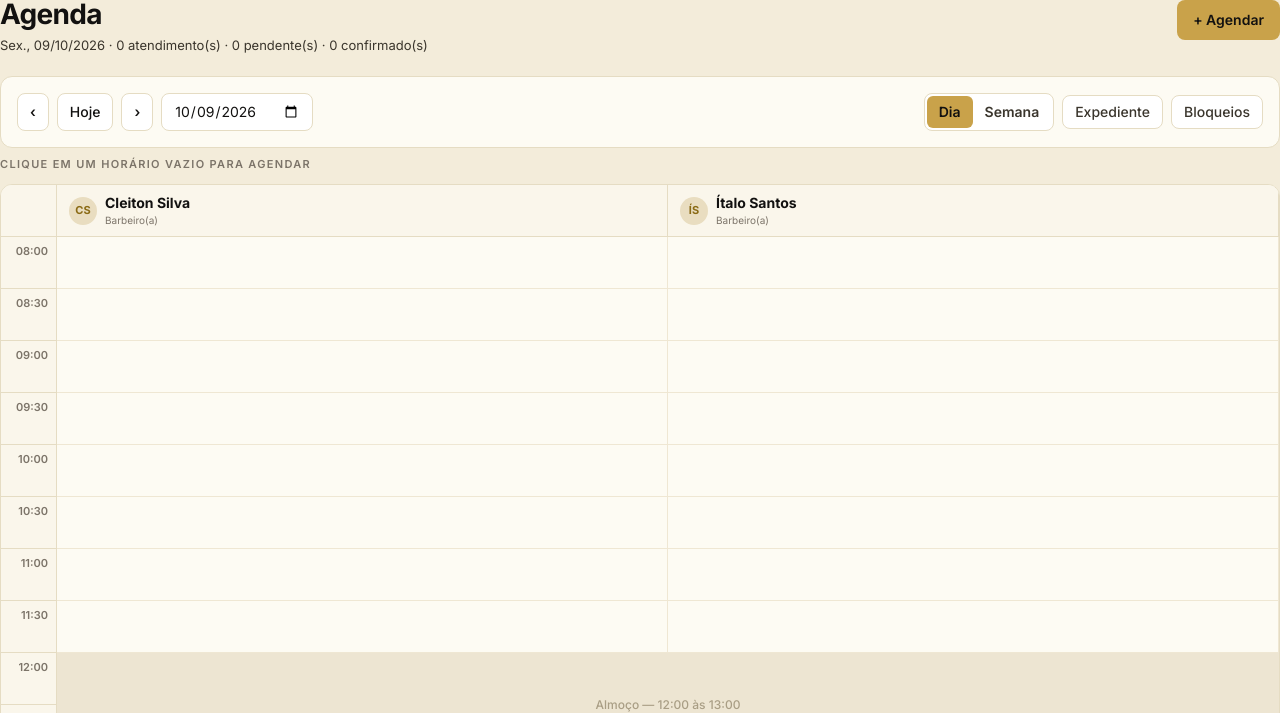
Test: Agenda — modais de expediente e bloqueios › duplo clique em "Criar bloqueio" não cadastra duas vezes
Click the button "Bloqueios".
click(1217, 112)  # box [1171,94,1263,128]
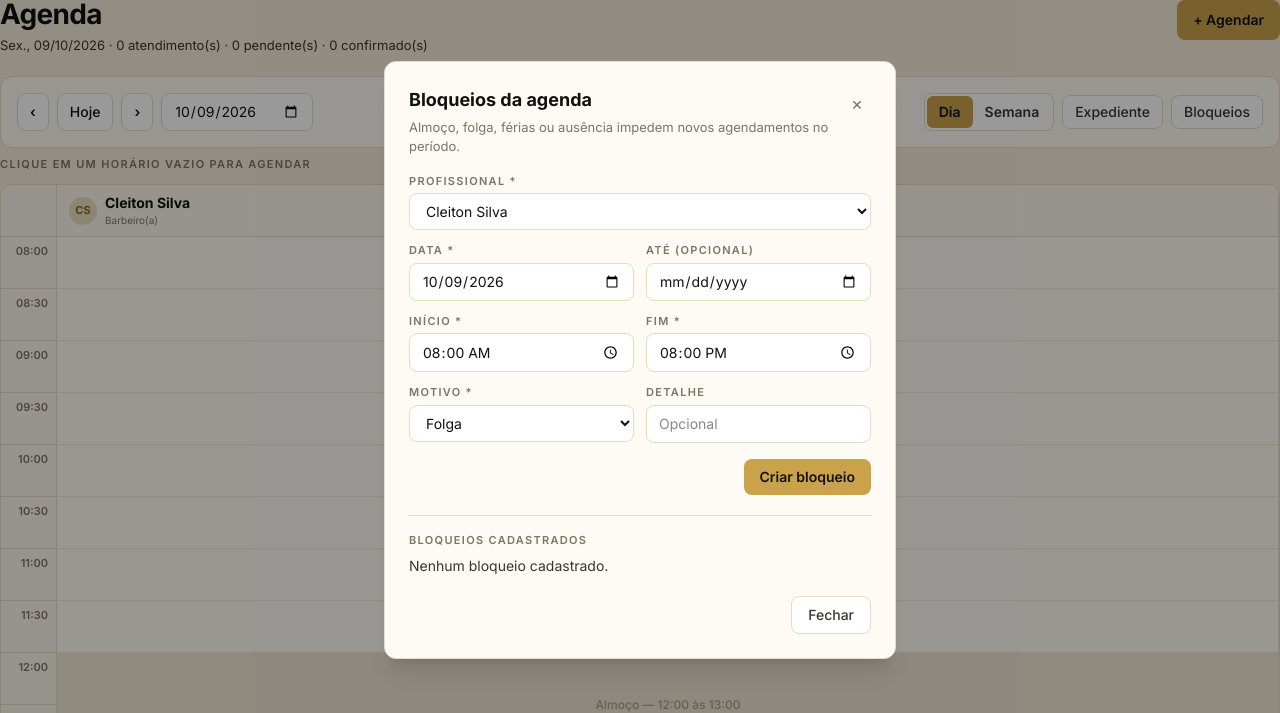
Click the button "Criar bloqueio".
click(807, 477)  # box [744,459,871,495]
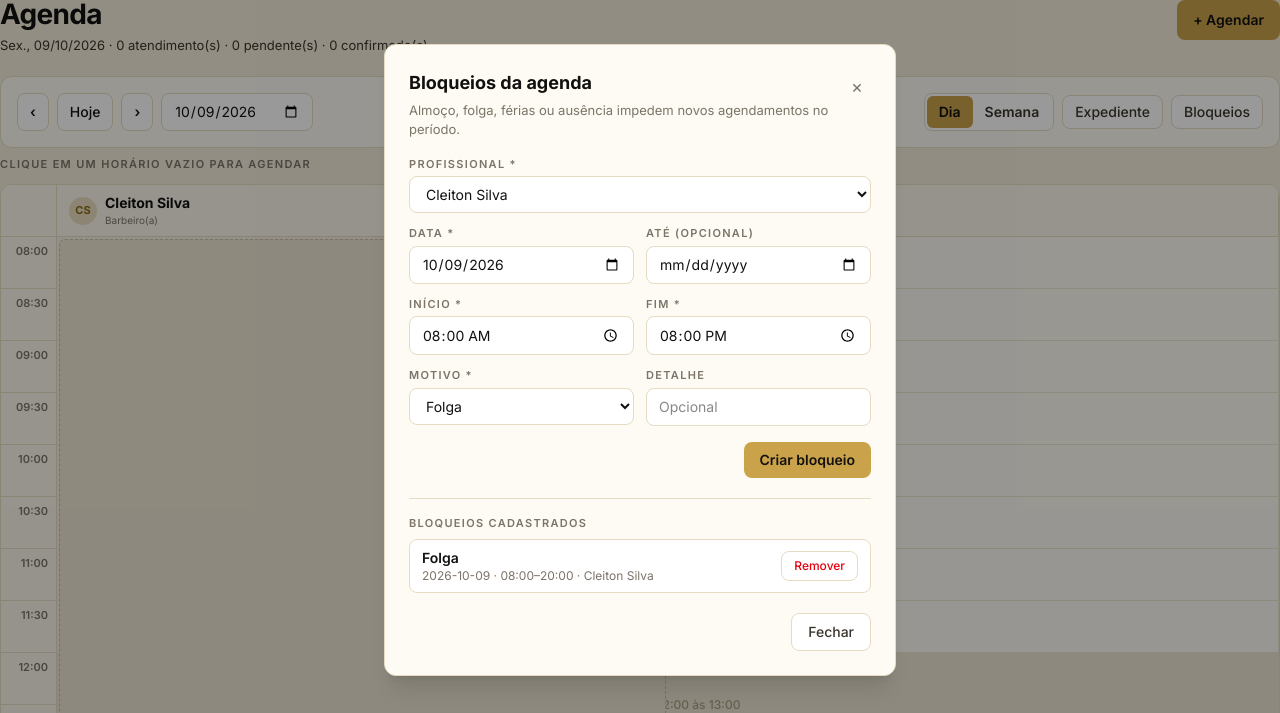
Click the button "Criar bloqueio".
click(807, 460)  # box [744,442,871,478]
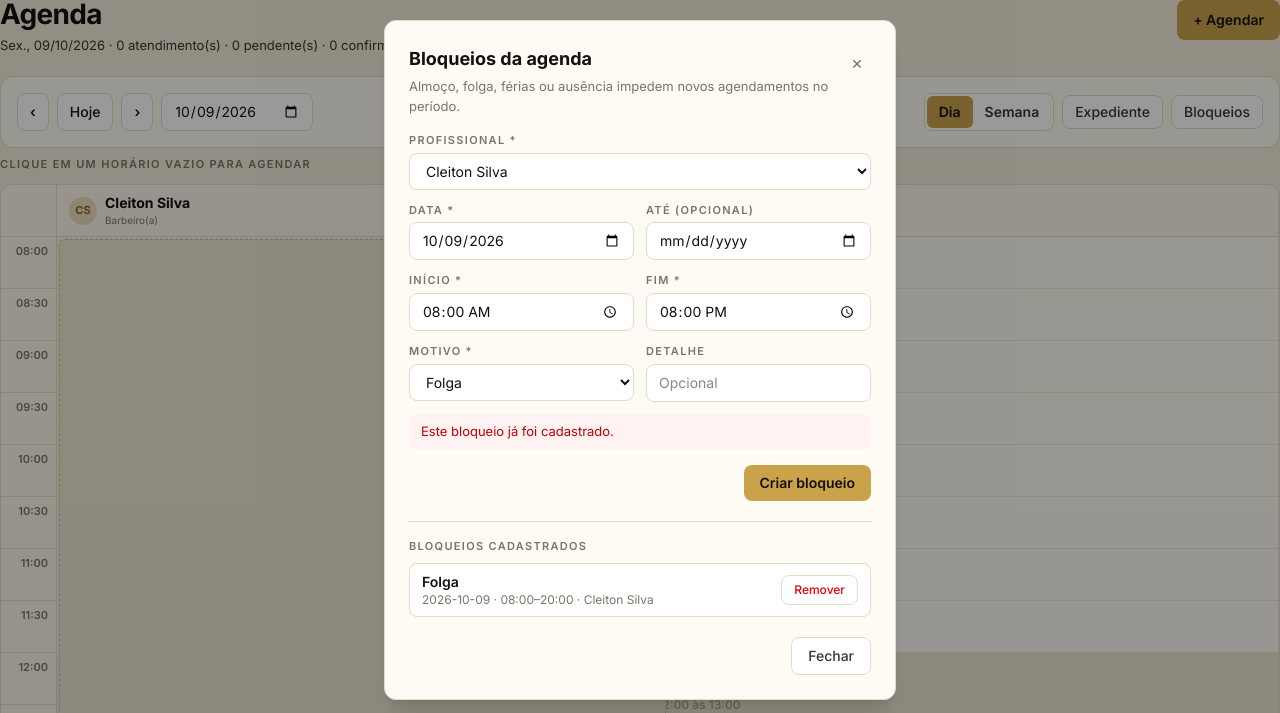
Expected: the text "Este bloqueio já foi cadastrado." is shown, [409,414,871,449]
